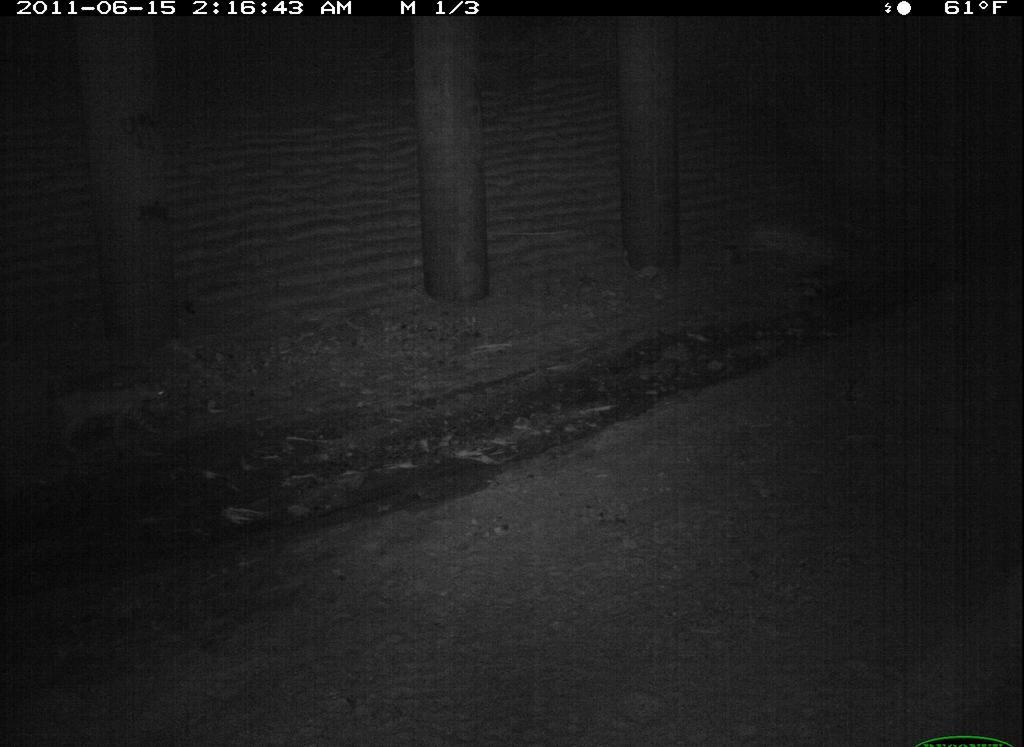bobcat: (99, 743, 356, 747)
